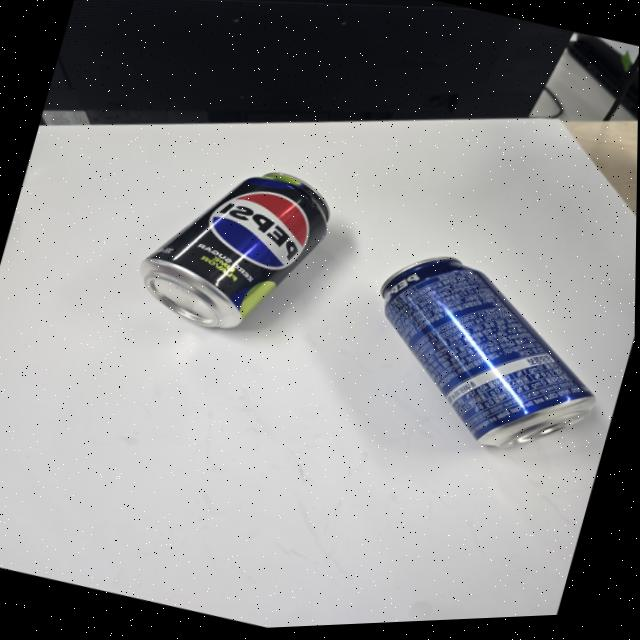can_pepsi: (384, 253, 590, 449)
can_pepsi_zero: (148, 169, 335, 327)
